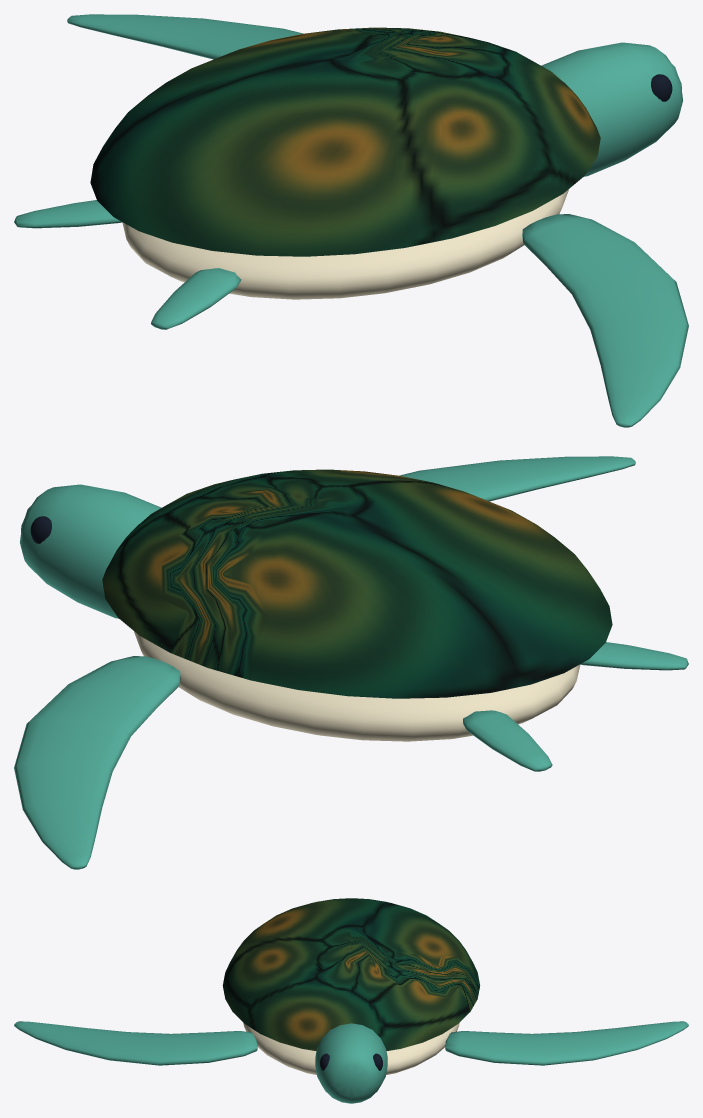
File: sea_turtle.glb
The picture shows the model from 3 angles, top to bottom: view 1: azimuth 30°, elevation 25°; view 2: azimuth 150°, elevation 25°; view 3: azimuth 270°, elevation 25°; orthographic projection. The views are drawn at different scales.
Parts seen in each view (by area): view 1: turtle_body, flipper_R, flipper_L; view 2: turtle_body, flipper_L, flipper_R; view 3: turtle_body, flipper_L, flipper_R.
Part boxes in pixels (<box>): turtle_body: <box>14,27,682,329</box>; flipper_R: <box>522,214,688,427</box>; flipper_L: <box>67,14,303,59</box>; turtle_body: <box>20,469,688,771</box>; flipper_L: <box>14,656,180,869</box>; flipper_R: <box>399,456,635,501</box>; turtle_body: <box>222,898,480,1103</box>; flipper_L: <box>445,1021,688,1065</box>; flipper_R: <box>14,1021,257,1065</box>.
Bounding box in the file's own units: 1.08 × 0.3236 × 1.79.
4 materials, 1 textured.
